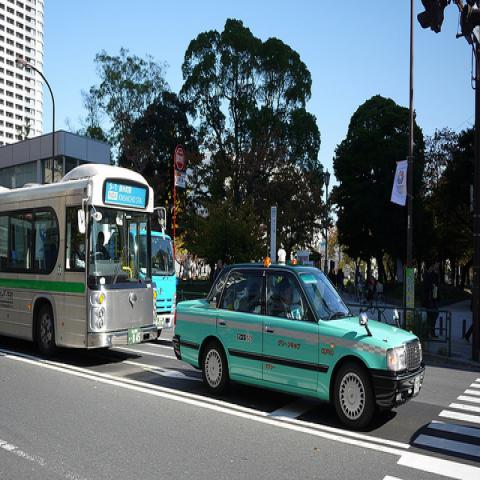bus: (3, 155, 161, 356), (150, 231, 177, 339)
car: (172, 257, 425, 432)
truck: (131, 232, 176, 329)
